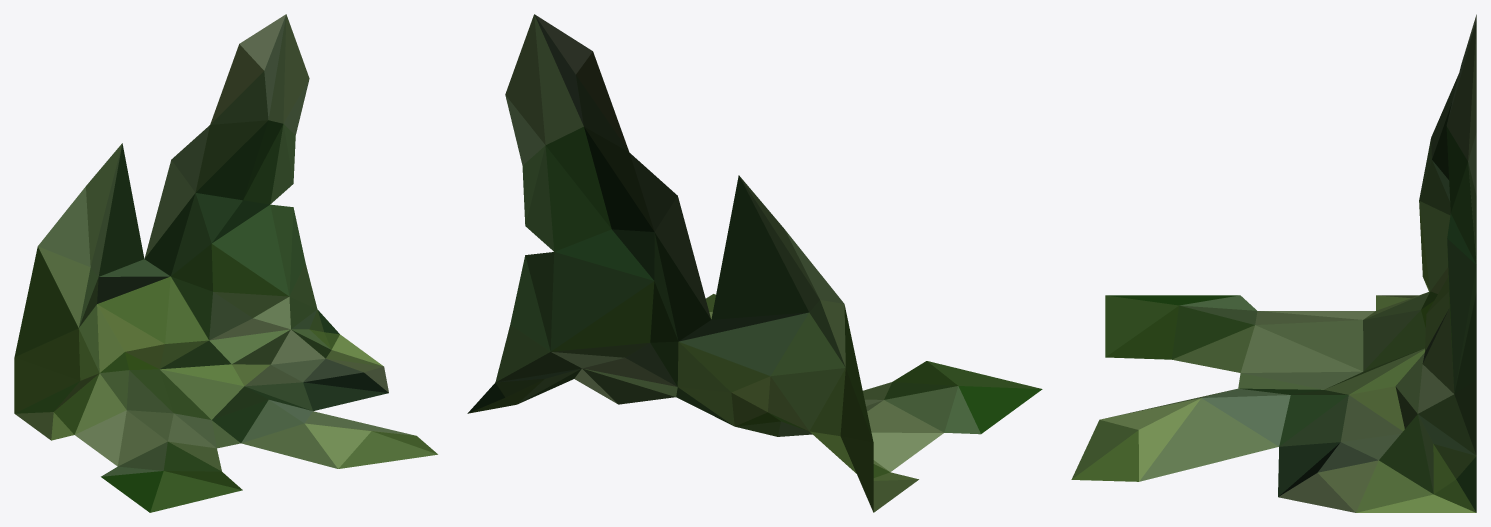
Rendered from Decal_IvyBase-B.fbx.
3 renders of one model, left to right at view 1: azimuth 30°, elevation 25°; view 2: azimuth 150°, elevation 25°; view 3: azimuth 270°, elevation 25°, orthographic. The views are drawn at different scales.
Visible parts, largest first — view 1: Decal_IvyBase-B; view 2: Decal_IvyBase-B; view 3: Decal_IvyBase-B.
Part boxes in pixels (<box>): Decal_IvyBase-B: <box>14,14,437,512</box>; Decal_IvyBase-B: <box>467,14,1042,512</box>; Decal_IvyBase-B: <box>1071,14,1476,512</box>.
Bounding box in the file's own units: 292 × 285 × 229.
